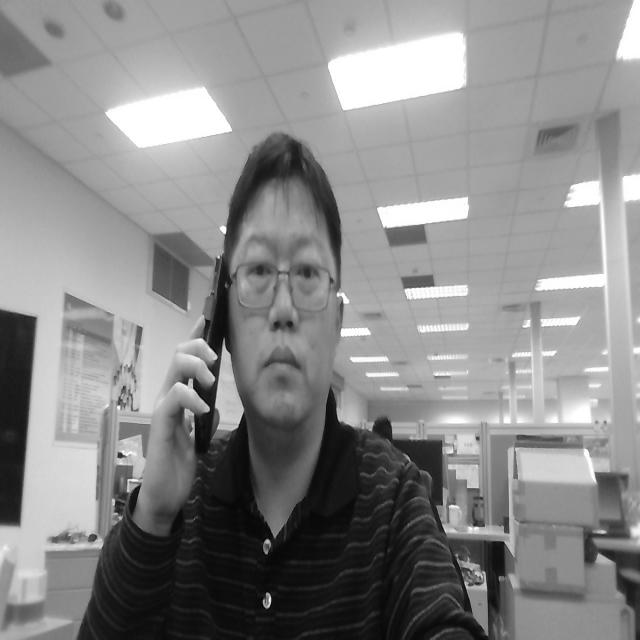phone: (160, 244, 238, 470)
